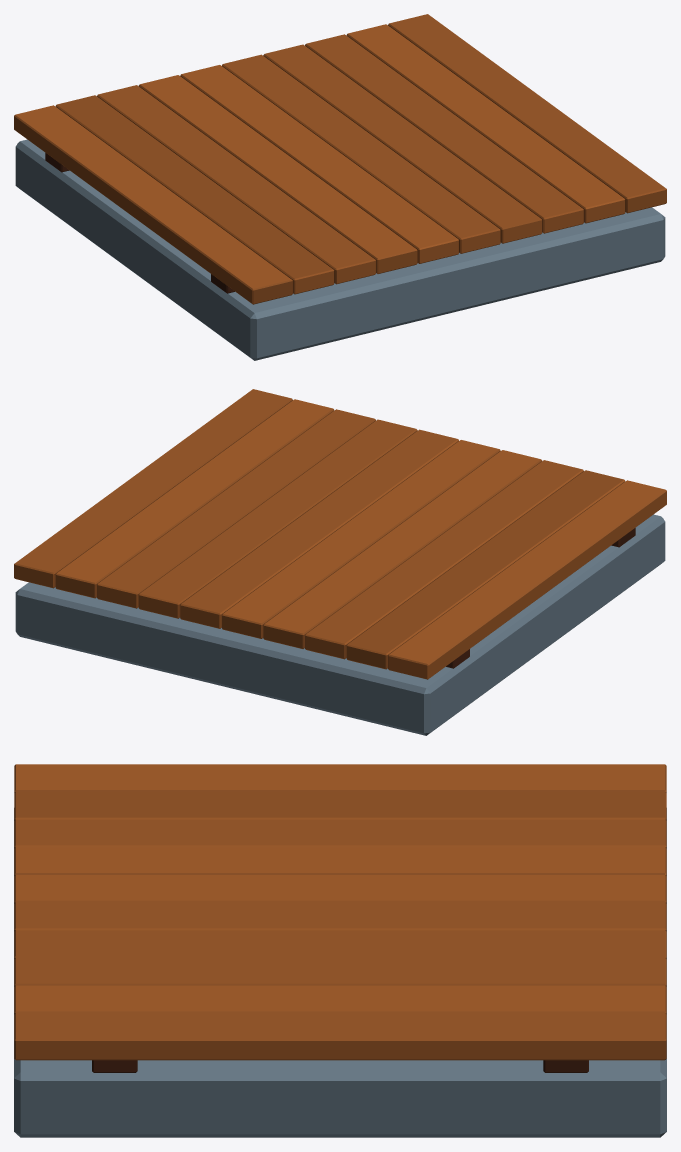
File: QH_Foundation_2m.fbx
3 renders of one model, top to bottom at view 1: azimuth 30°, elevation 25°; view 2: azimuth 150°, elevation 25°; view 3: azimuth 270°, elevation 25°, orthographic. The views are drawn at different scales.
Visible parts, largest first — view 1: QH_Foundation_2m; view 2: QH_Foundation_2m; view 3: QH_Foundation_2m.
Part boxes in pixels (x1,y1,x2,y2): QH_Foundation_2m: [14, 14, 666, 360]; QH_Foundation_2m: [14, 389, 666, 735]; QH_Foundation_2m: [14, 764, 666, 1137].
Size of the model in its own units: 2 by 0.34 by 2.
